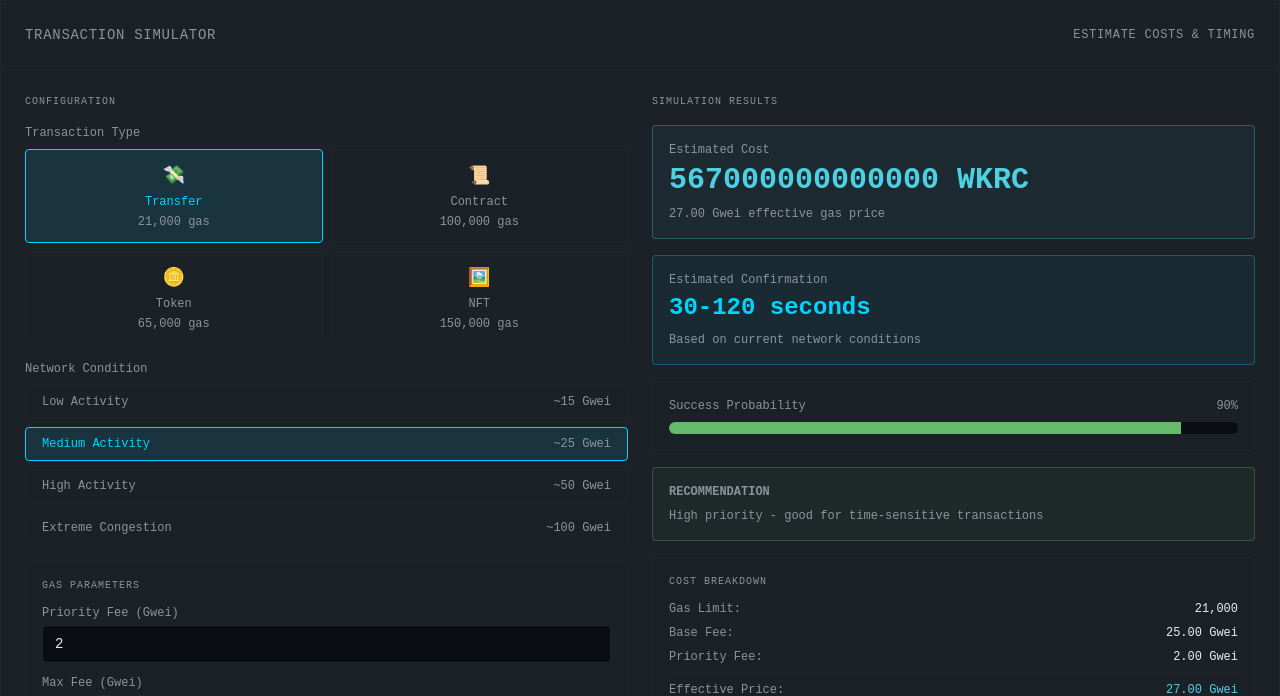
Test: TransactionSimulator - Transaction Type Selection › selects contract type and updates gas limit
The image size is (1280, 696).
Click the button with aria-label "Select Contract transaction type".
click(479, 196)  # box [330,149,628,243]
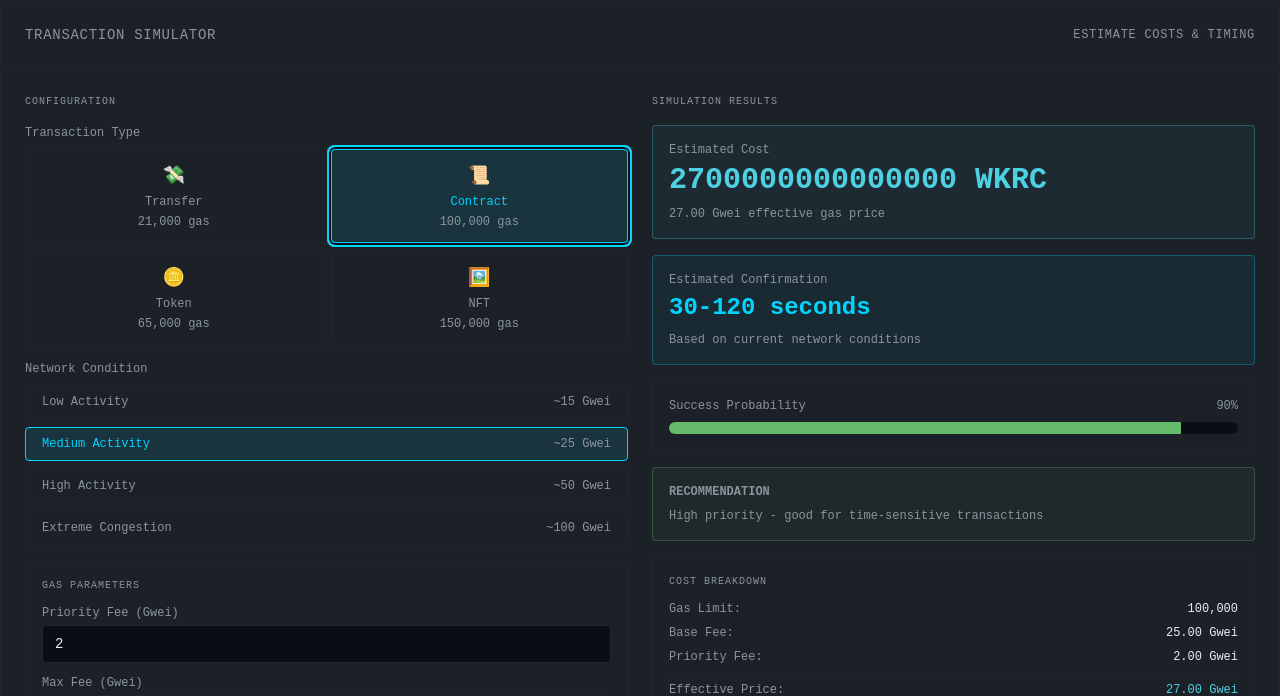
expect the text "100,000" is shown: met, box [1188,601,1238,617]
